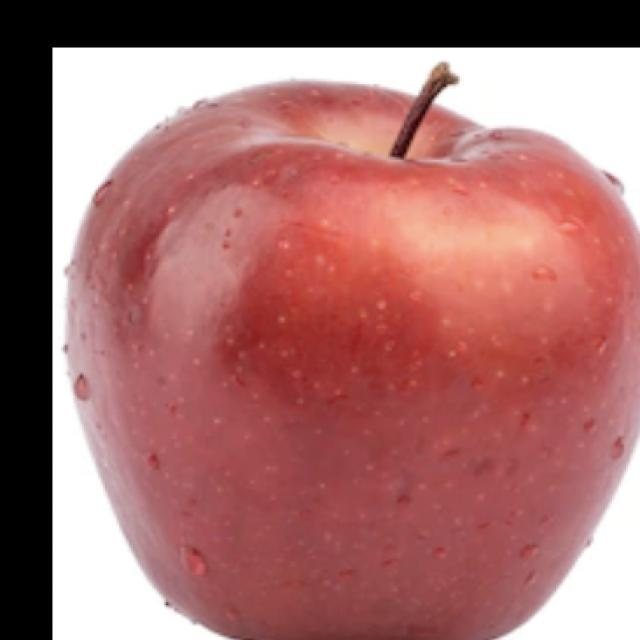Fresh Apple: (100, 95, 622, 640)
